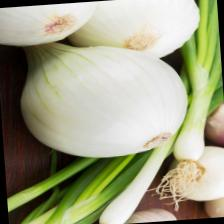onion: (14, 32, 191, 162), (63, 0, 203, 65), (0, 1, 99, 48)
